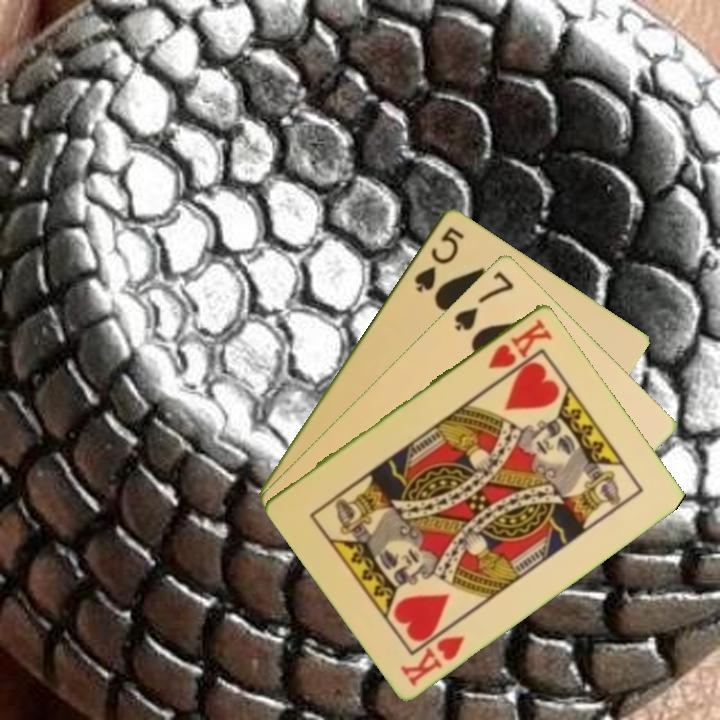5s: (410, 223, 468, 295)
7s: (450, 266, 517, 334)
Kh: (397, 631, 468, 689), (484, 315, 555, 372)
